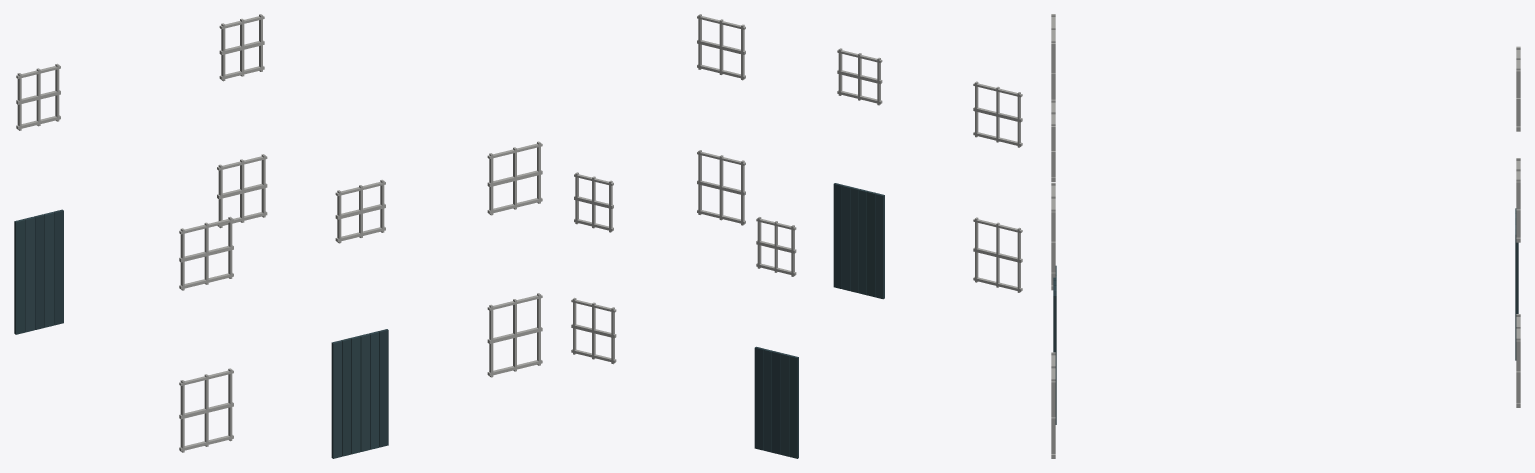
File: SM_Bld_212_Wood.glb
3 renders of one model, left to right at view 1: azimuth 30°, elevation 25°; view 2: azimuth 150°, elevation 25°; view 3: azimuth 270°, elevation 25°, orthographic. The views are drawn at different scales.
Parts seen in each view (by area): view 1: SM_Bld_212_Wood; view 2: SM_Bld_212_Wood; view 3: SM_Bld_212_Wood.
Part boxes in pixels (left/top/right/bottom): SM_Bld_212_Wood: left=14, top=14, right=542, bottom=458; SM_Bld_212_Wood: left=571, top=14, right=1022, bottom=458; SM_Bld_212_Wood: left=1051, top=14, right=1520, bottom=458.
Size of the model in its own units: 6.72 by 4.73 by 6.75.
